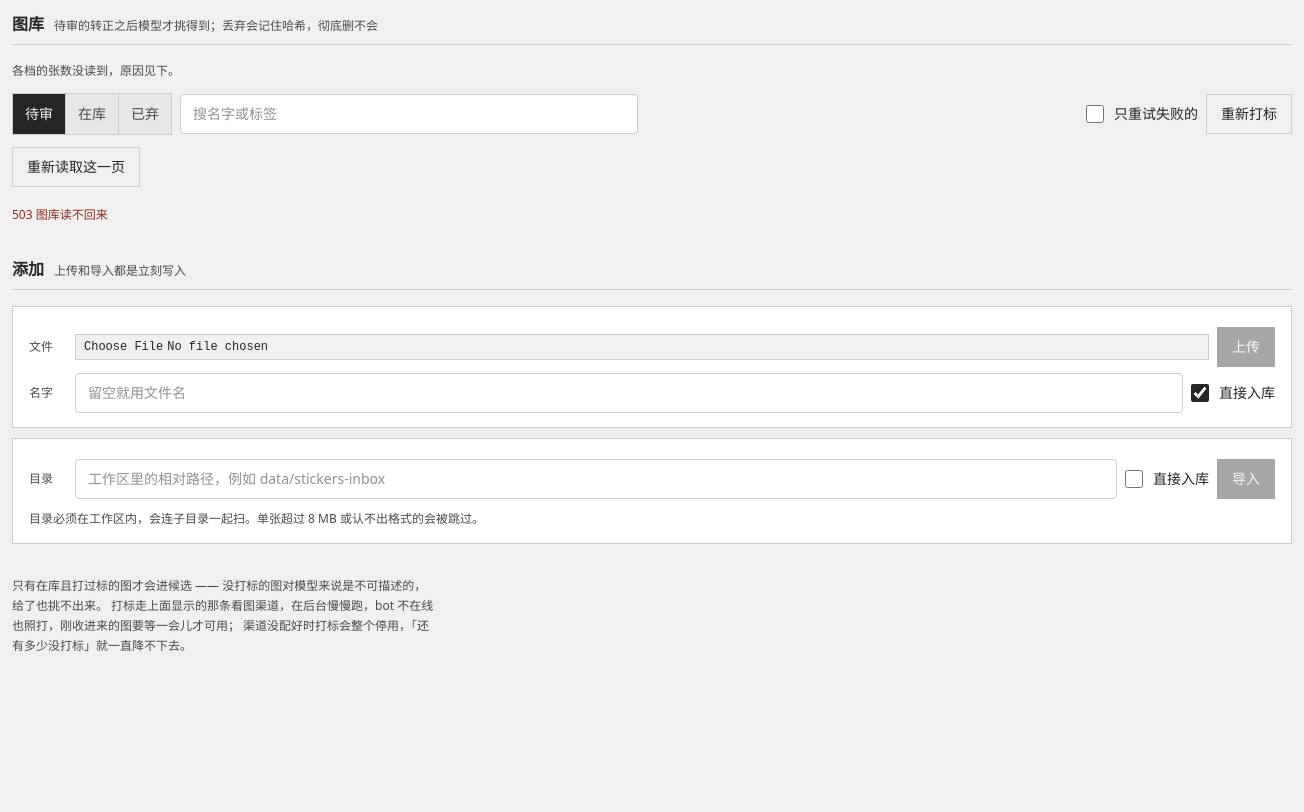
Test: 这一页没读成 › 首读失败不说这一档还没有图，读成了空页才说
Expected: the text "这一档还没有图。" is not shown
Click the button "在库". click: (92, 114)
box: [65,94,118,134]
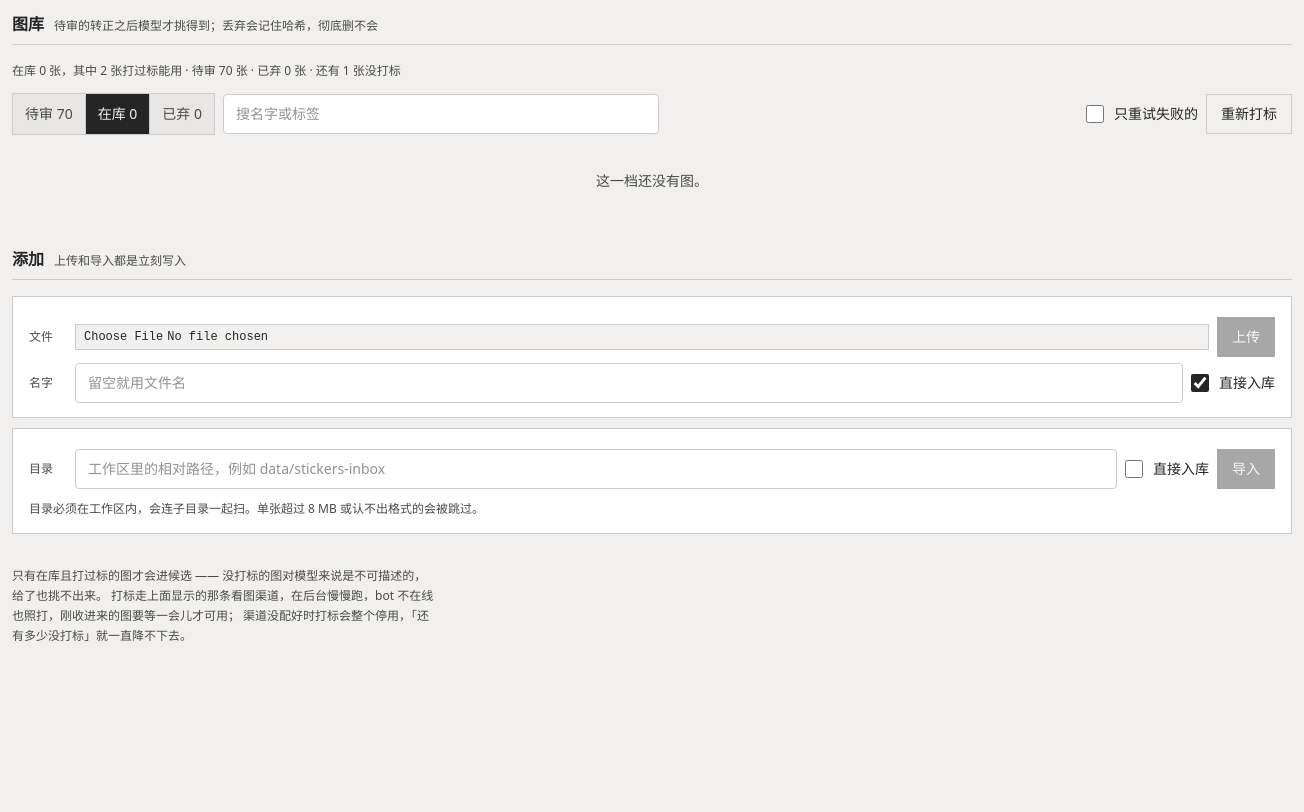
Expected: the text "这一档还没有图。" is shown, [596,171,708,190]
Expected: the text "503 图库读不回来" is gone
